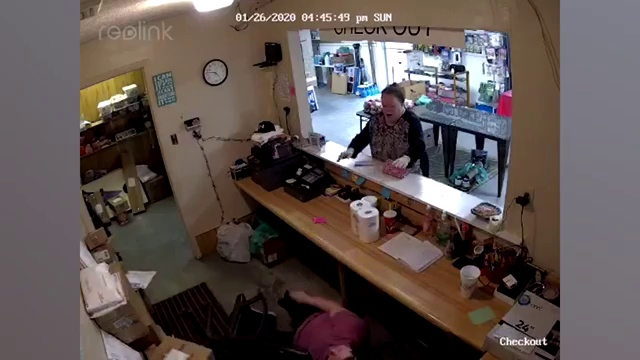face: (381, 95, 401, 121)
